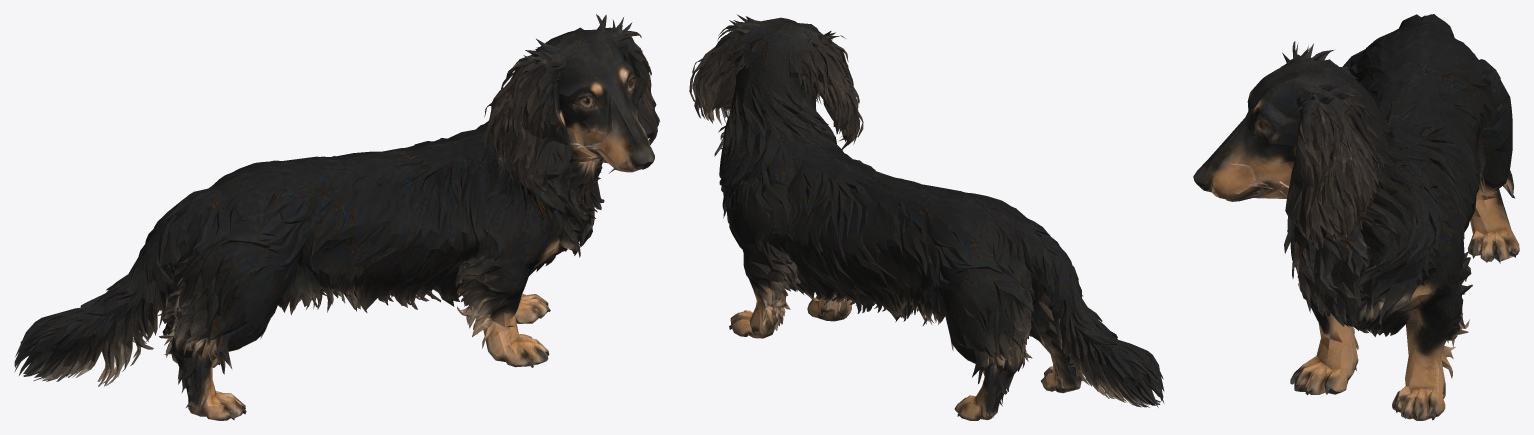
Rendered from living-room-dog.glb.
3 views of the same model, side by side, from view 1: azimuth 30°, elevation 25°; view 2: azimuth 150°, elevation 25°; view 3: azimuth 270°, elevation 25° (orthographic). The views are drawn at different scales.
Parts seen in each view (by area): view 1: Franklin · presentation scale; view 2: Franklin · presentation scale; view 3: Franklin · presentation scale.
Part boxes in pixels (<box>): Franklin · presentation scale: <box>14,14,660,420</box>; Franklin · presentation scale: <box>689,14,1164,420</box>; Franklin · presentation scale: <box>1193,14,1519,420</box>.
Size of the model in its own units: 0.72 by 0.3703 by 0.3118.
Materials: 1 (1 with a texture image).
